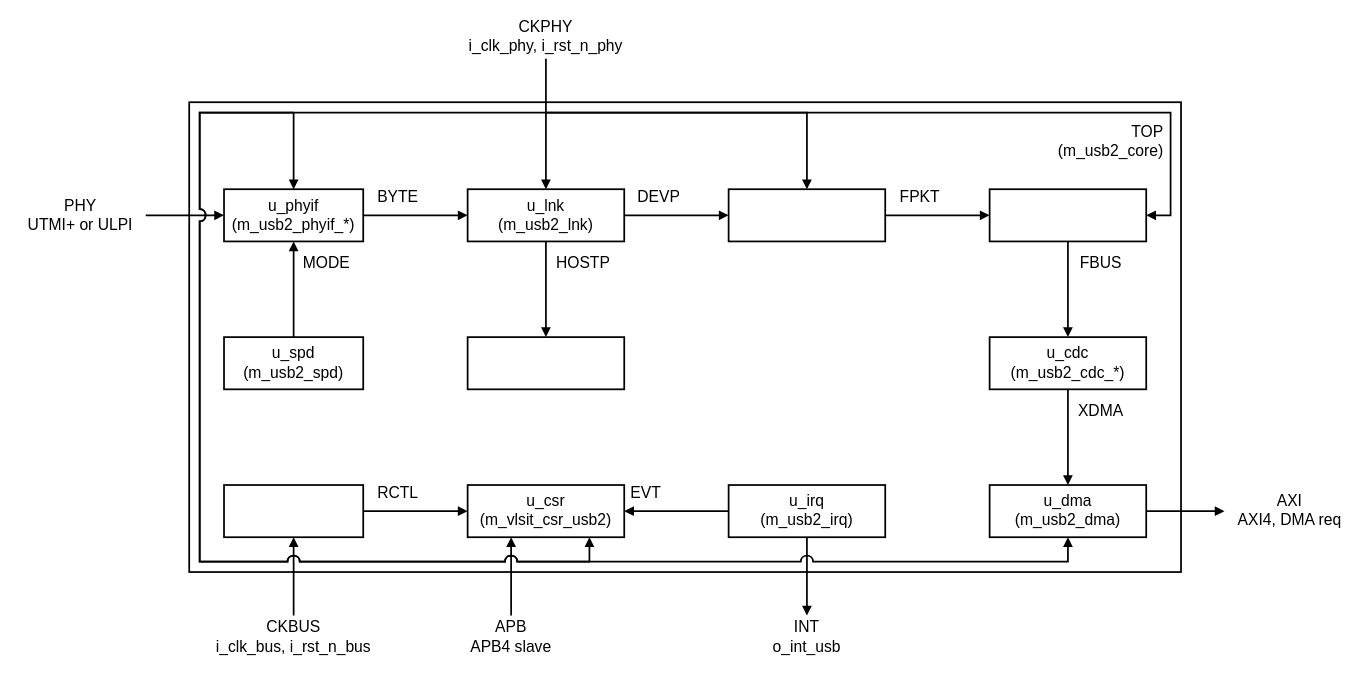
Some shapes in this 1369 by 673 pixel diagram are drawn without their labels. Here are the shapes that lost their labels. From the top down, the centre of each, then its label:
(806,215): u_dev (m_usb2_dev)
(1067,215): u_fifo (m_usb2_fifo)
(545,363): u_host (m_usb2_host)
(293,511): u_rst (m_usb2_rst)
